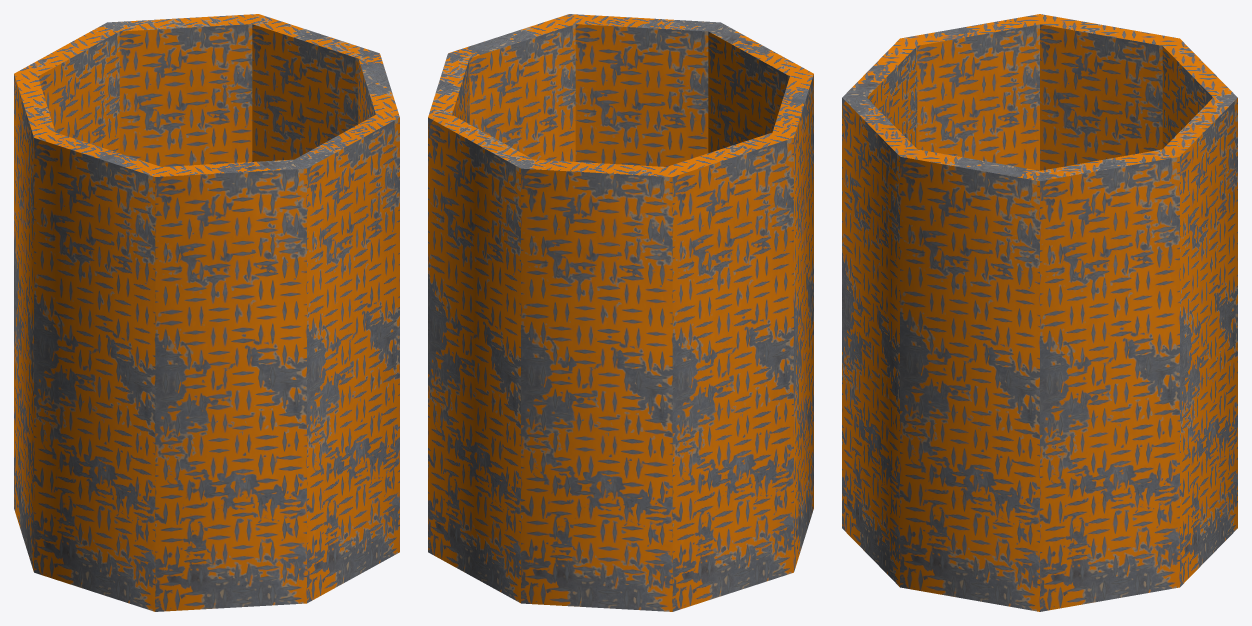
Rendered from BoteDeBasura.fbx.
3 renders of one model, left to right at view 1: azimuth 30°, elevation 25°; view 2: azimuth 150°, elevation 25°; view 3: azimuth 270°, elevation 25°, orthographic.
Parts seen in each view (by area): view 1: Bote de basura004; view 2: Bote de basura004; view 3: Bote de basura004.
Part boxes in pixels (box(x1,y1,x2,y2)): Bote de basura004: box(14, 14, 399, 611); Bote de basura004: box(428, 14, 813, 611); Bote de basura004: box(842, 14, 1237, 611).
Bounding box in the file's own units: 78.81 × 94.66 × 78.81.
